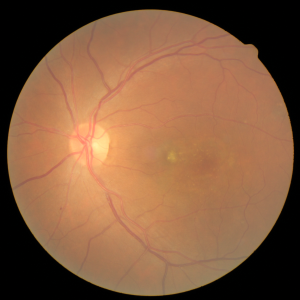retina_disease: (36, 93, 233, 207)
